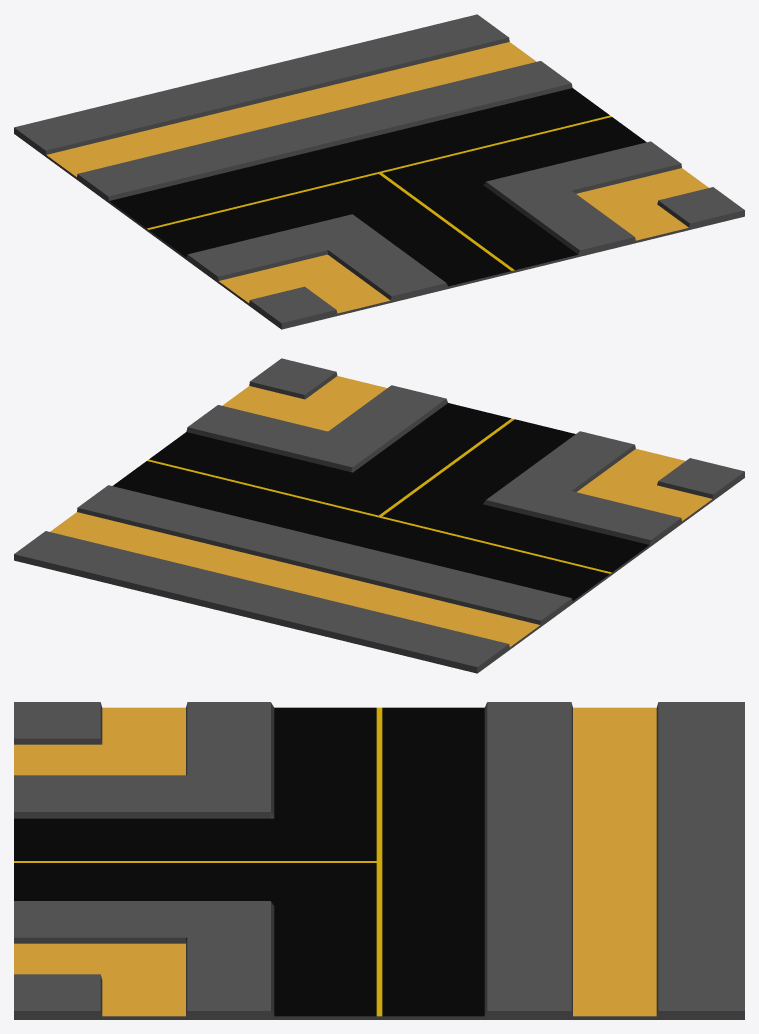
The model's file is RouteCroisementx3.glb.
3 views of the same model, one above another, from view 1: azimuth 30°, elevation 25°; view 2: azimuth 150°, elevation 25°; view 3: azimuth 270°, elevation 25° (orthographic). The views are drawn at different scales.
Visible parts, largest first — view 1: RouteCroisementx3; view 2: RouteCroisementx3; view 3: RouteCroisementx3.
Boxes of the visible parts, x1,y1,x2,y2 form: RouteCroisementx3: [14, 14, 744, 329]; RouteCroisementx3: [14, 358, 744, 673]; RouteCroisementx3: [14, 702, 744, 1019].
Bounding box in the file's own units: 25 × 0.33 × 25.
